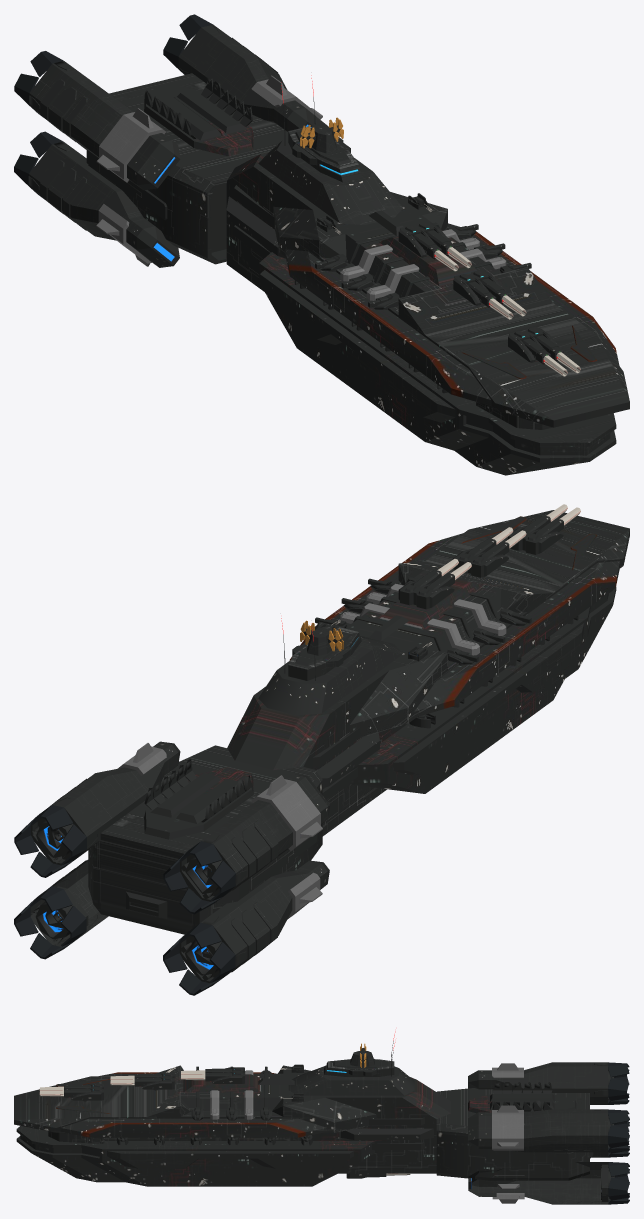
Rendered from cruiser.glb.
3 views of the same model, one above another, from view 1: azimuth 30°, elevation 25°; view 2: azimuth 150°, elevation 25°; view 3: azimuth 270°, elevation 25° (orthographic). The views are drawn at different scales.
Parts seen in each view (by area): view 1: cruiser_1, cruiser_0; view 2: cruiser_1, cruiser_0; view 3: cruiser_1, cruiser_0.
Boxes of the visible parts, left/top/right/bottom form: cruiser_1: left=86, top=73, right=629, bottom=475; cruiser_0: left=14, top=14, right=580, bottom=393; cruiser_1: left=88, top=510, right=629, bottom=934; cruiser_0: left=14, top=504, right=580, bottom=995; cruiser_1: left=14, top=1065, right=589, bottom=1186; cruiser_0: left=39, top=1031, right=629, bottom=1204.
Bounding box in the file's own units: 0.2618 × 0.2746 × 1.
2 materials, 2 textured.
